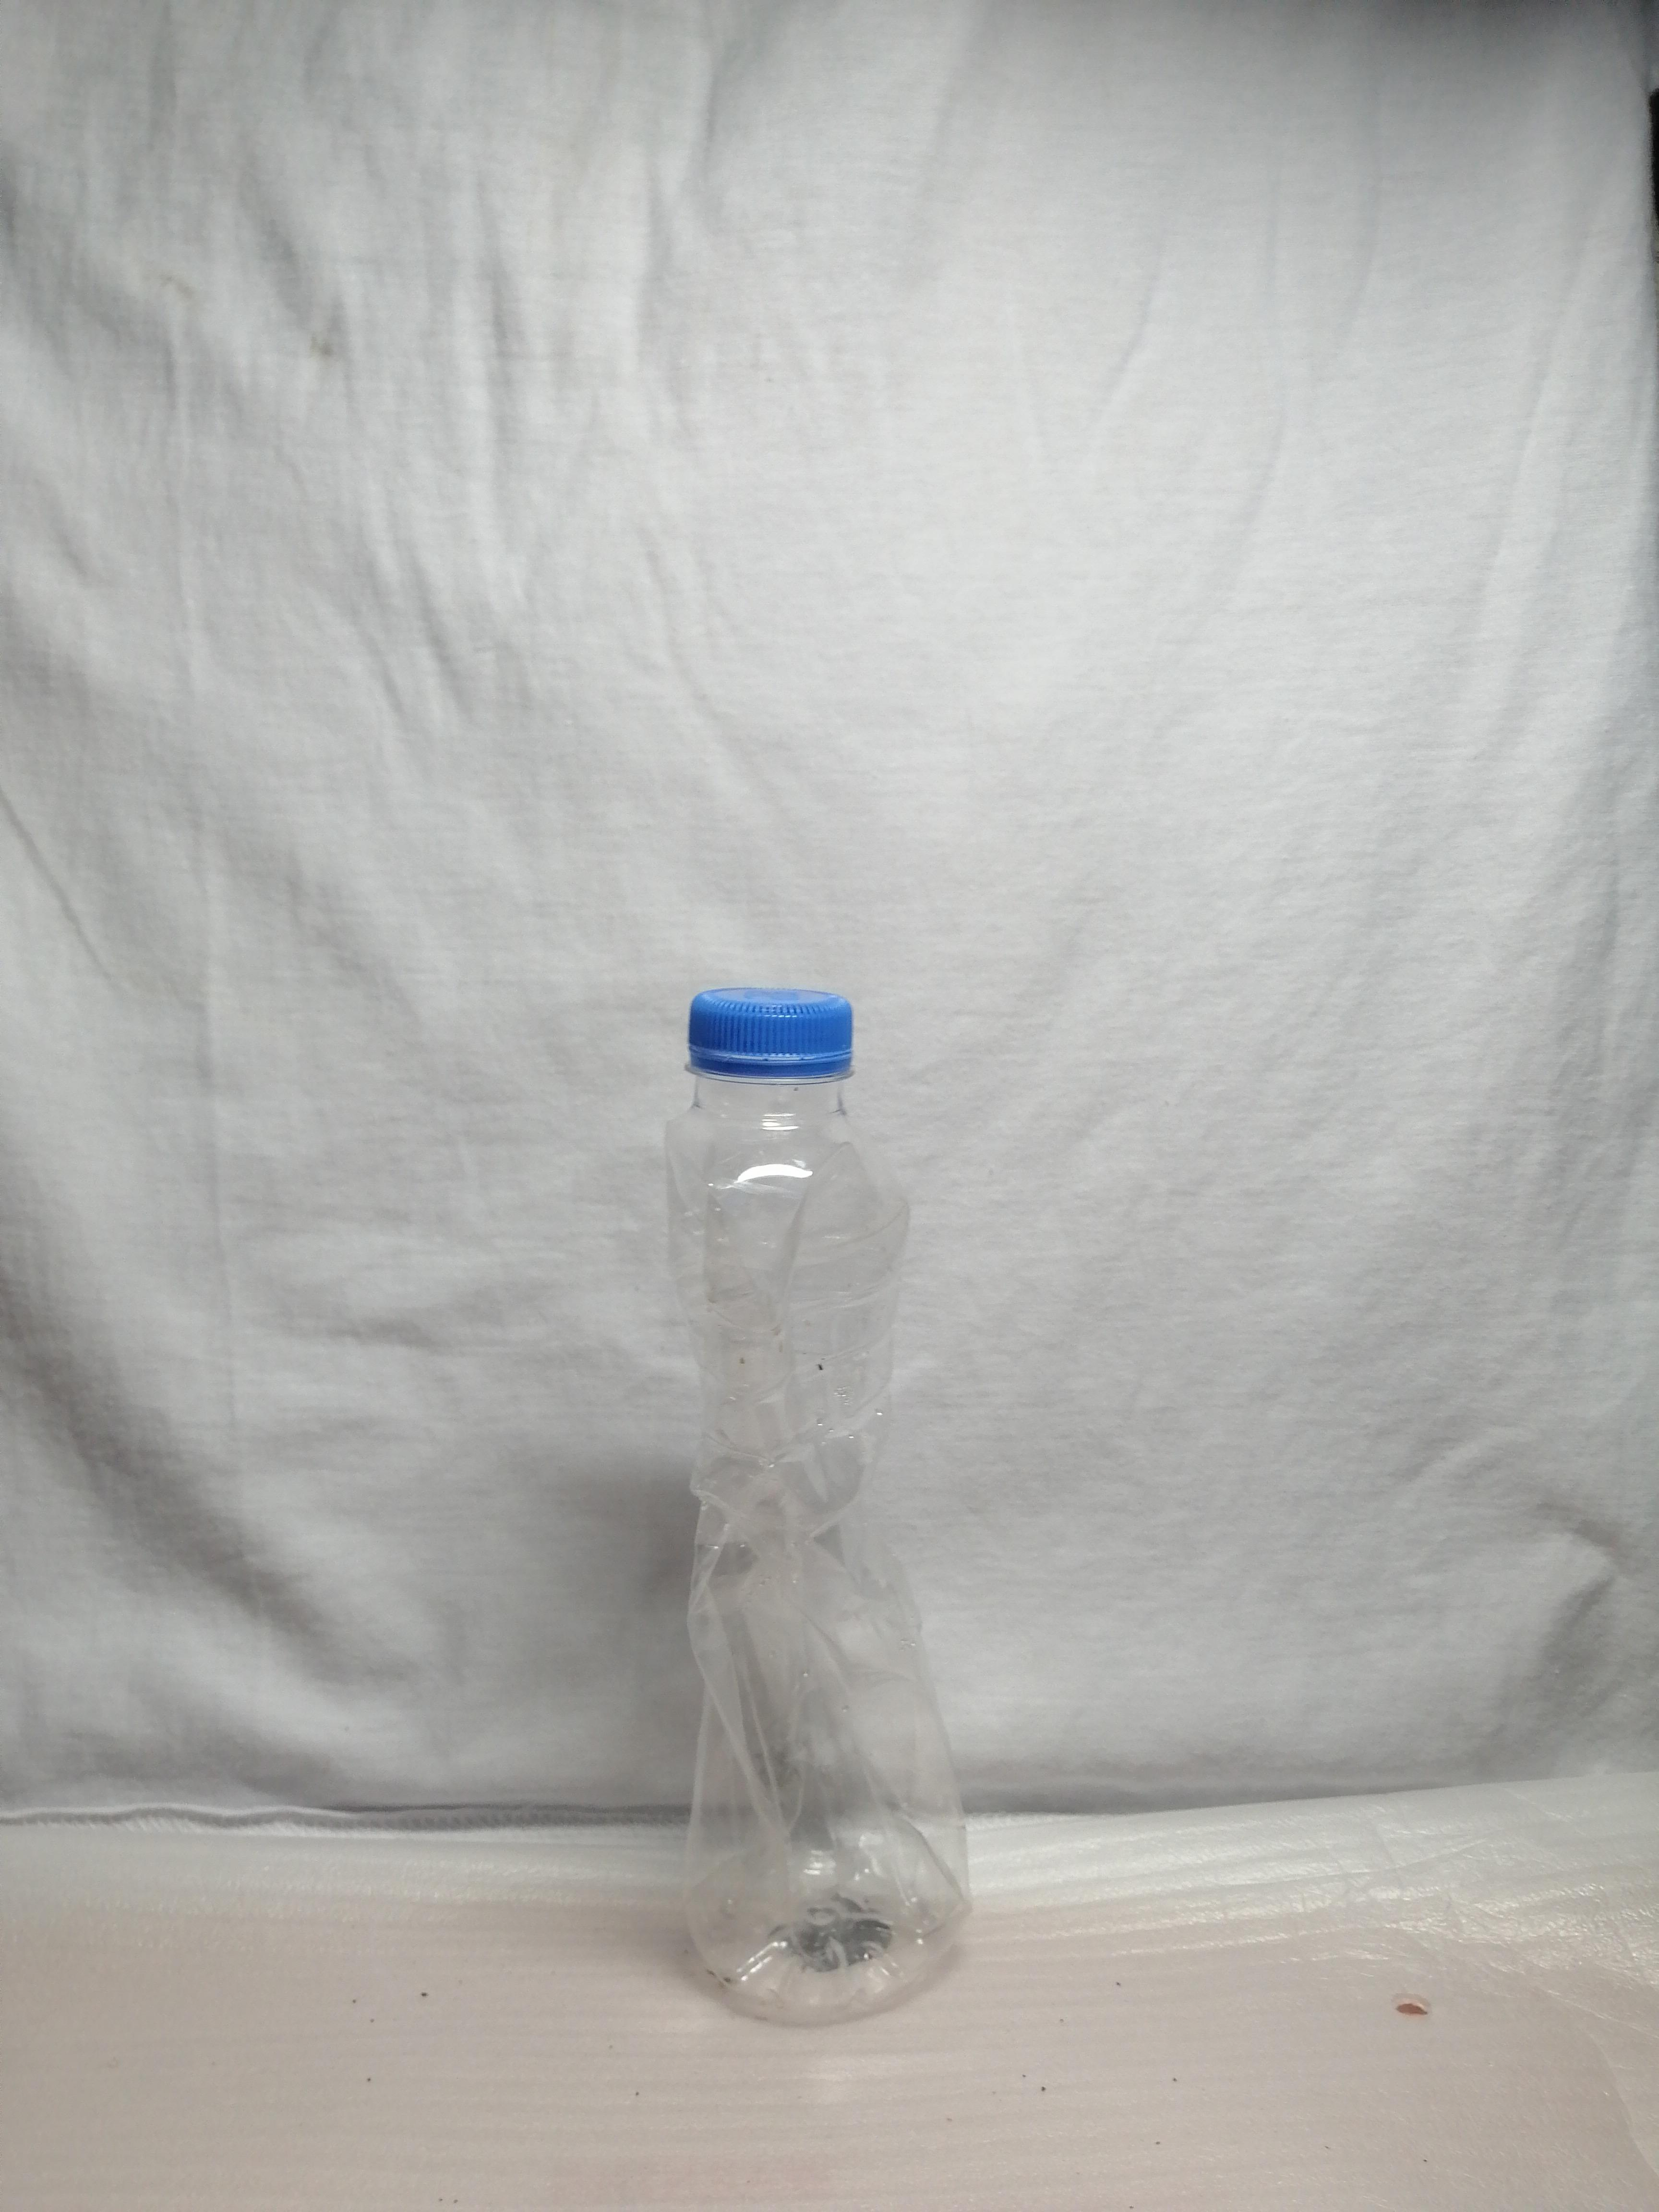plastic-bottle: (576, 936, 1003, 2040)
